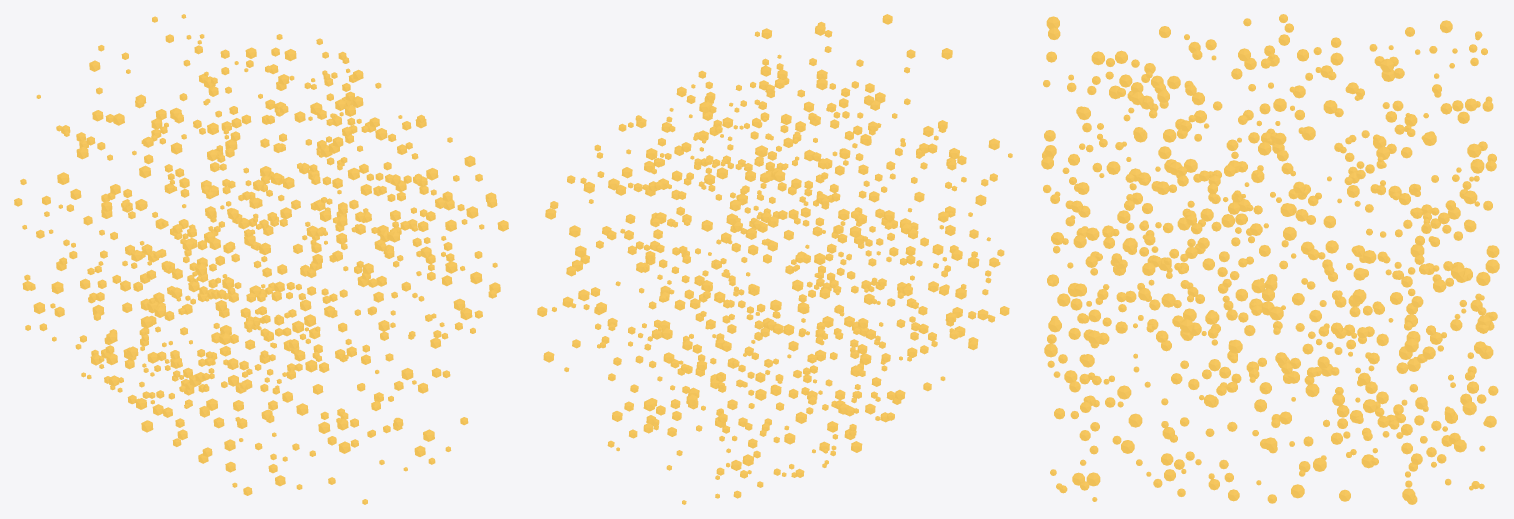
The model's file is particles.glb.
The picture shows the model from 3 angles, left to right: view 1: azimuth 30°, elevation 25°; view 2: azimuth 150°, elevation 25°; view 3: azimuth 270°, elevation 25°; orthographic projection. The views are drawn at different scales.
Visible parts, largest first — view 1: ParticleCloud; view 2: ParticleCloud; view 3: ParticleCloud.
Boxes of the visible parts, x1,y1,x2,y2 form: ParticleCloud: (14, 14, 508, 504); ParticleCloud: (537, 14, 1012, 504); ParticleCloud: (1041, 14, 1499, 504).
Size of the model in its own units: 2.99 by 3.06 by 2.85.
